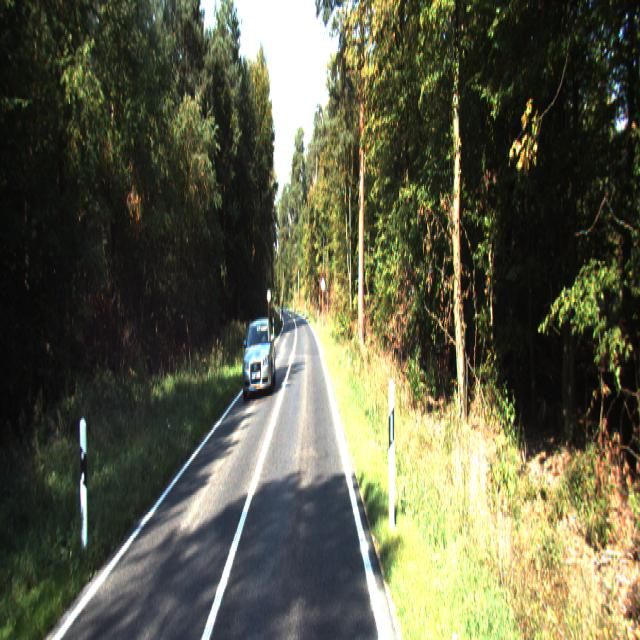Car: (240, 316, 278, 399)
